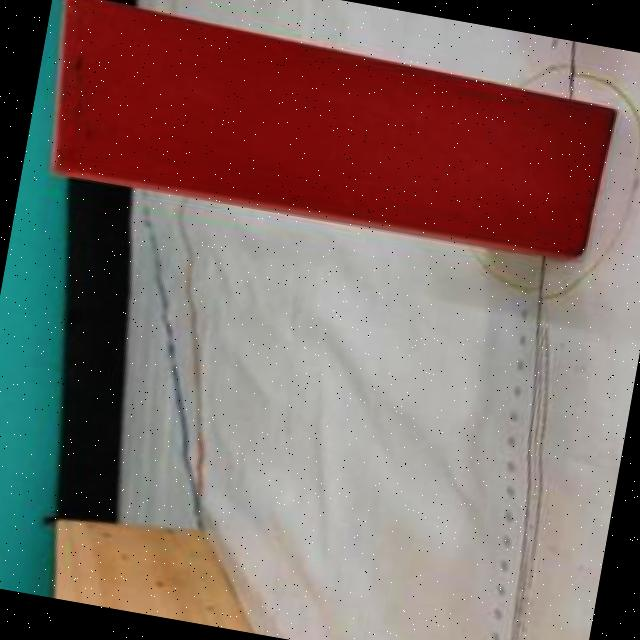redbox: (33, 0, 622, 267)
